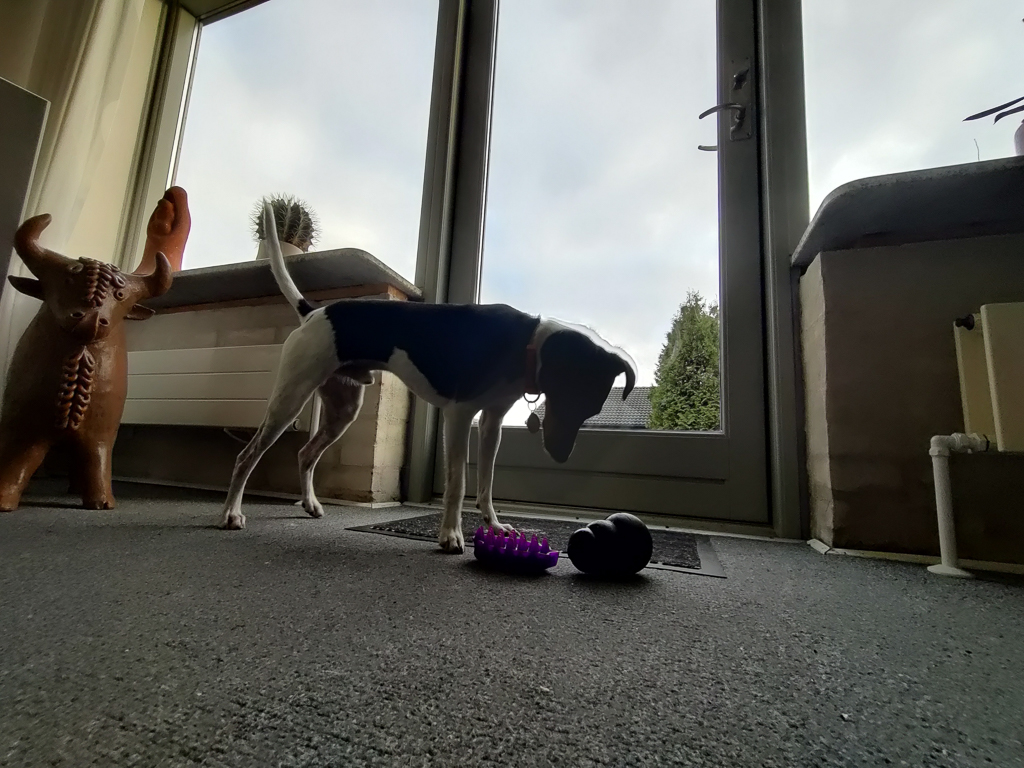Cattle: (1, 204, 181, 523)
Dog: (199, 183, 644, 565)
Humanoid: (119, 184, 196, 276)
